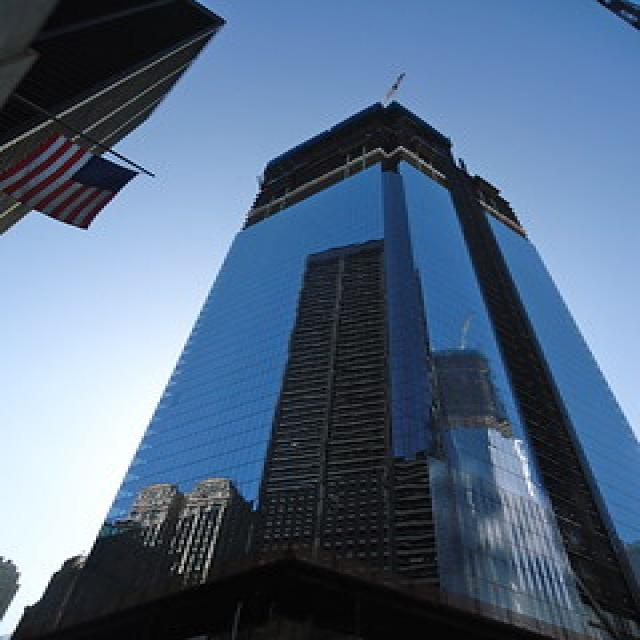Normal_building: (90, 98, 640, 640)
